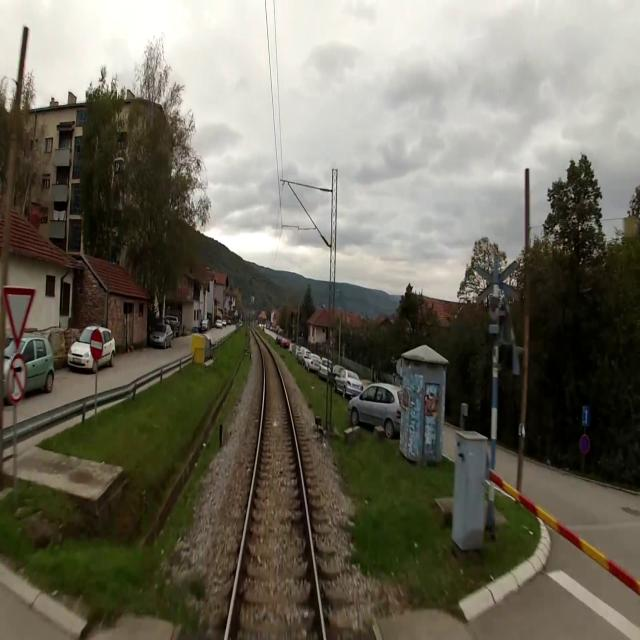rail-track: (228, 337, 322, 639)
